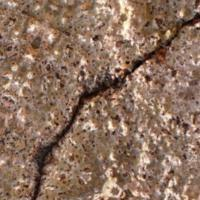crack: (19, 10, 199, 199)
